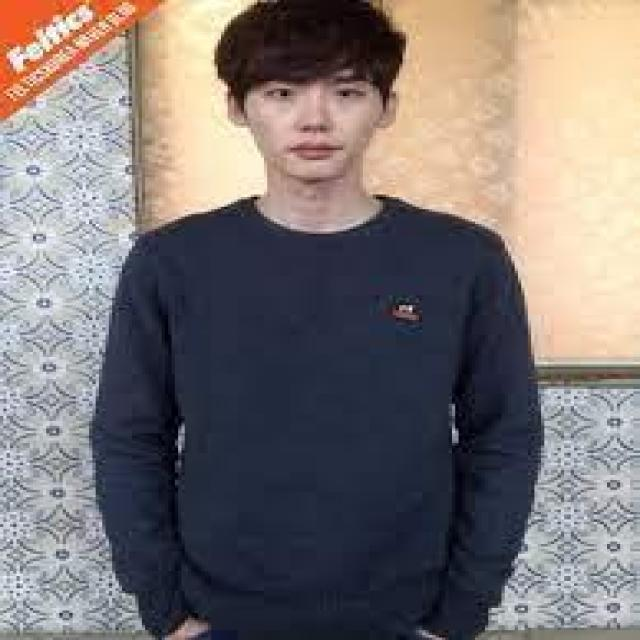sweater: (88, 179, 544, 640)
